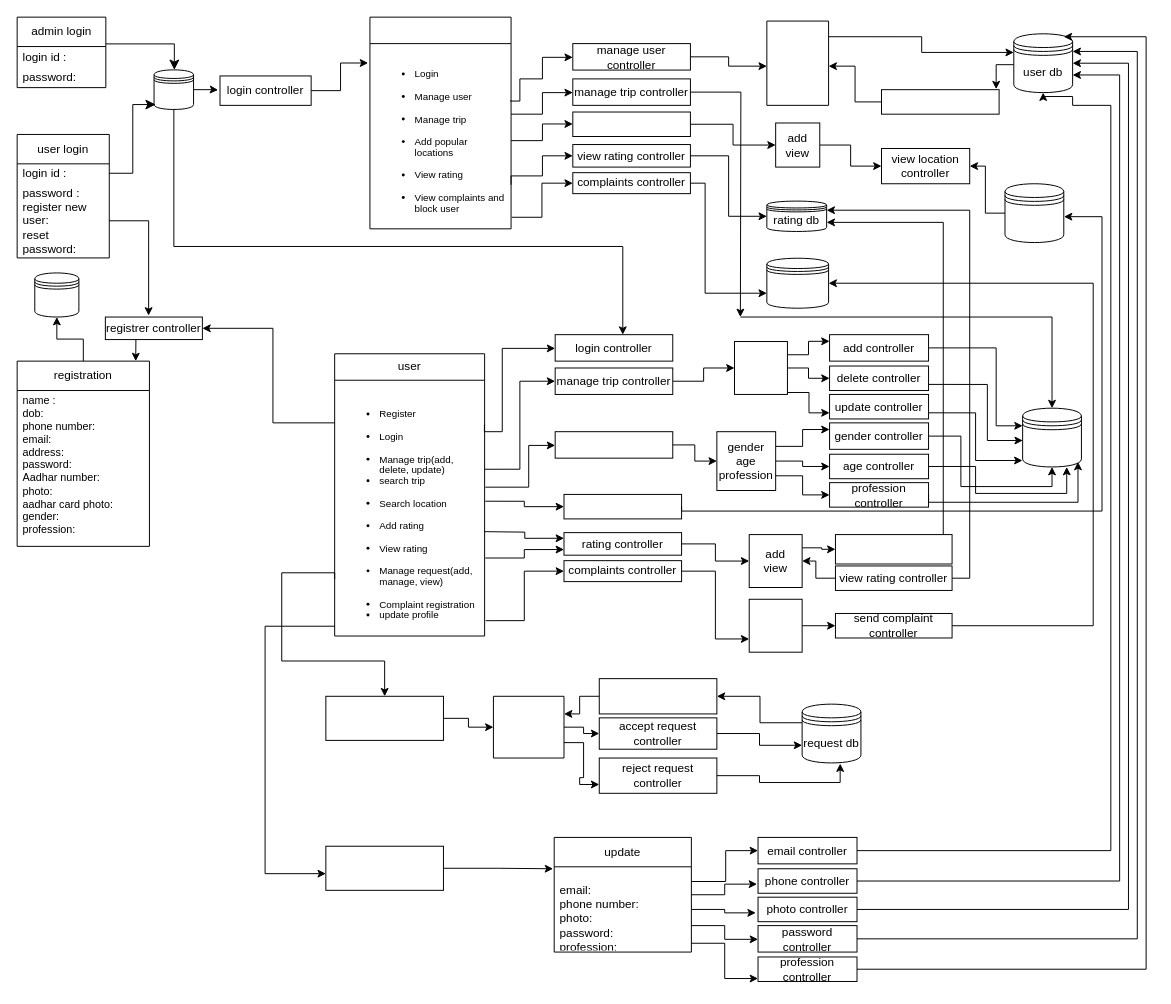
This 1171x1004 diagram has some shape labels left out. The box of each missing label's shape, as (x1, y1, x2, y2) in pixels:
add delete update: (734, 341, 787, 394)
add rating controller: (834, 534, 952, 564)
admin: (369, 16, 511, 229)
complaints db: (766, 257, 829, 308)
location controller: (572, 111, 690, 137)
location db: (1004, 183, 1064, 243)
login db: (153, 69, 194, 109)
manage request controller: (325, 695, 443, 740)
register db: (34, 272, 79, 317)
remove block view: (766, 20, 829, 105)
search location controller: (563, 493, 682, 519)
search trip controller: (554, 431, 673, 458)
send: (748, 598, 802, 652)
trip db: (1022, 407, 1081, 467)
update profile controller: (325, 845, 443, 890)
view accept reject: (492, 695, 564, 758)
view request controller: (598, 678, 717, 714)
view user controller: (881, 89, 999, 114)
